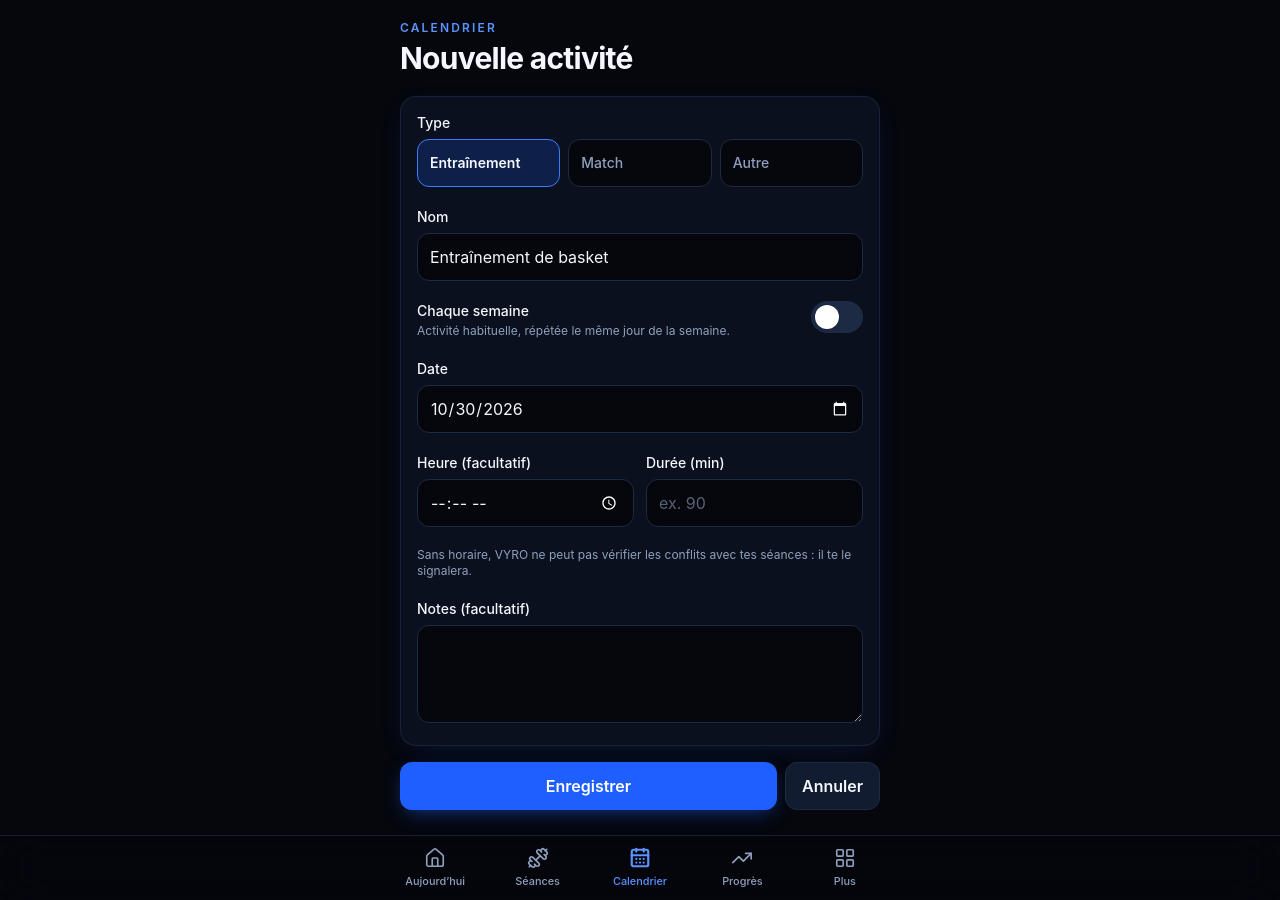
Scenario: activités › refuse une activité sans nom ou à l’heure invalide
The width and height of the screenshot is (1280, 900).
Clear the field labelled "Nom" at (640, 257), box top-left (417, 233), bottom-right (863, 281)
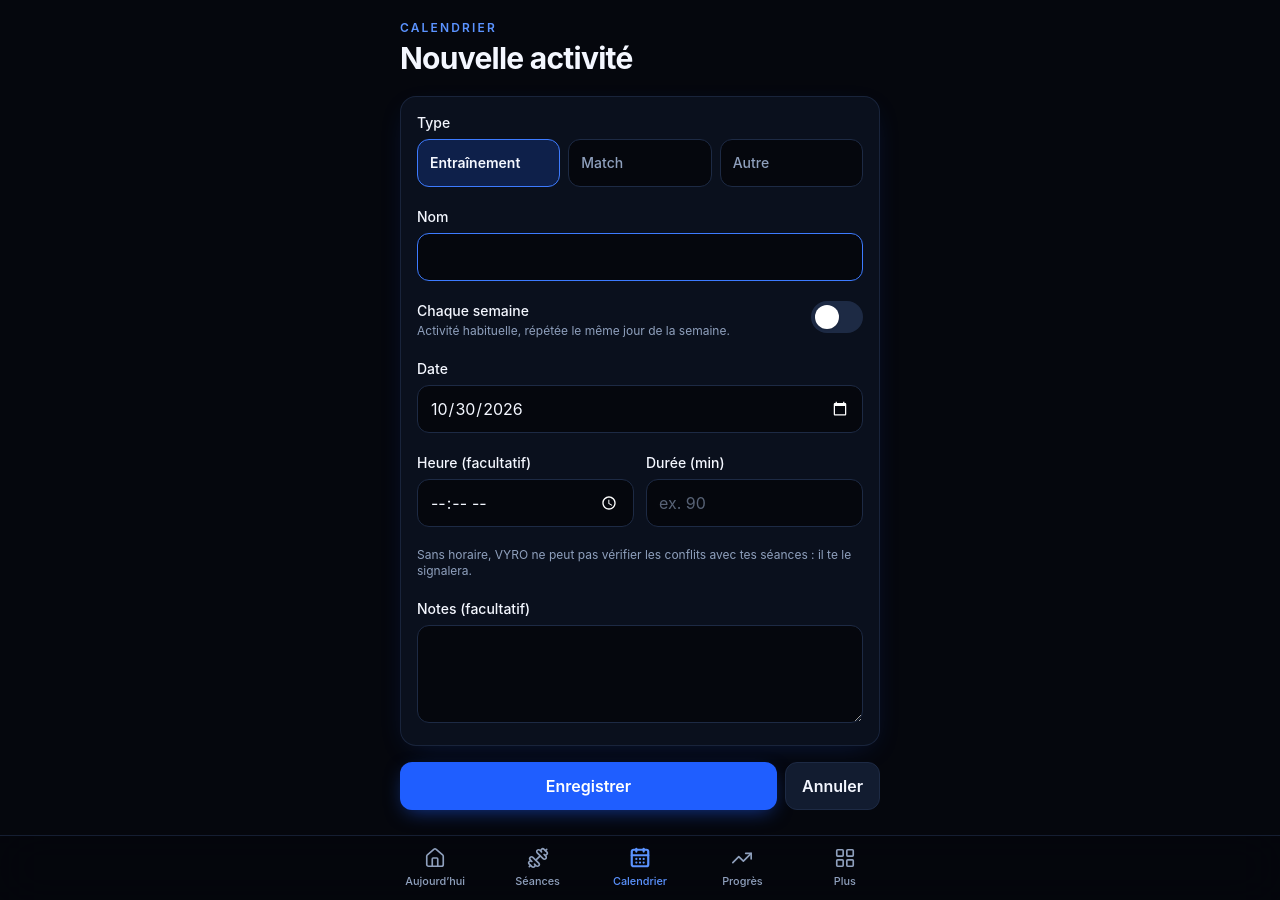
Click the button "Enregistrer" at (588, 786), box top-left (400, 762), bottom-right (777, 810)
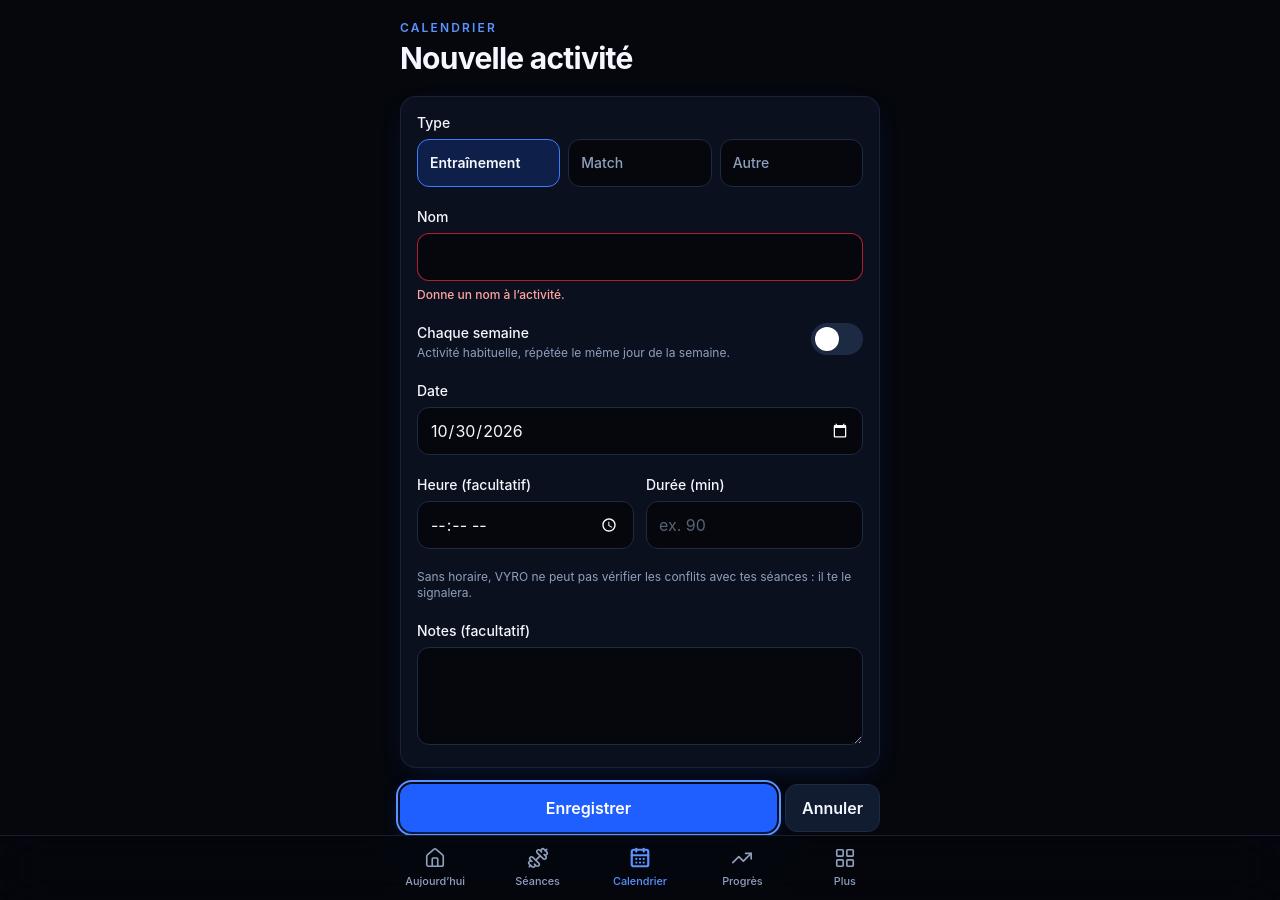
expect the text "Donne un nom à l’activité." is shown: met, box top-left (417, 287), bottom-right (565, 302)
